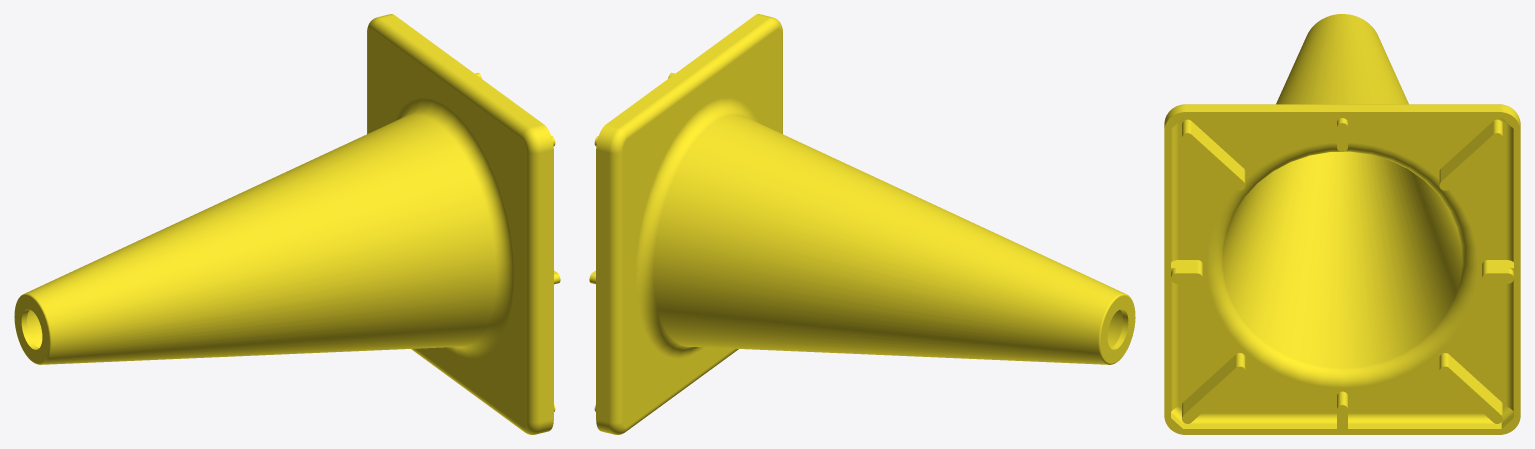
3 views of the same model, side by side, from view 1: azimuth 30°, elevation 25°; view 2: azimuth 150°, elevation 25°; view 3: azimuth 270°, elevation 25° (orthographic). The views are drawn at different scales.
Parts seen in each view (by area): view 1: ConesChibata; view 2: ConesChibata; view 3: ConesChibata.
Boxes of the visible parts, <box> form: ConesChibata: <box>14,14,560,434</box>; ConesChibata: <box>589,14,1135,434</box>; ConesChibata: <box>1164,14,1520,434</box>.
Size of the model in its own units: 32.54 by 21.27 by 21.27.
